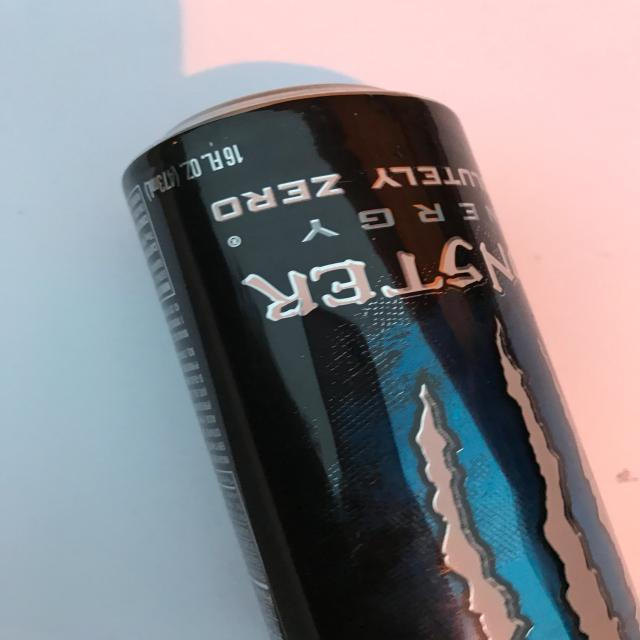metal: (117, 83, 640, 640)
